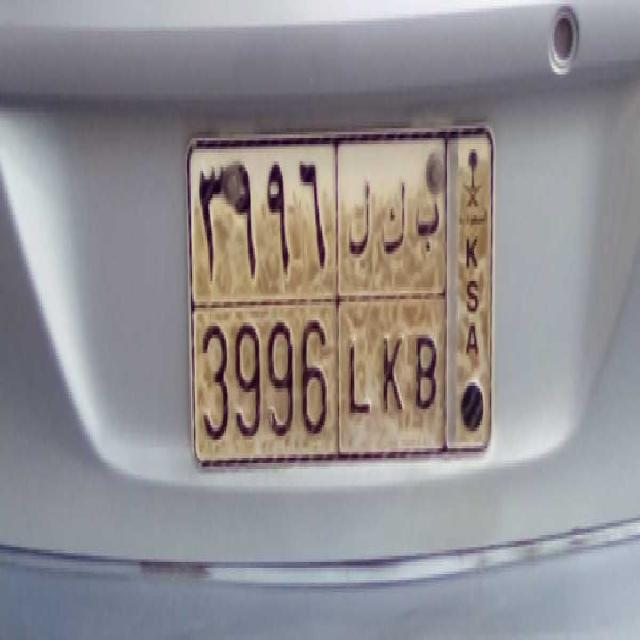license_plate: (190, 291, 447, 464)
